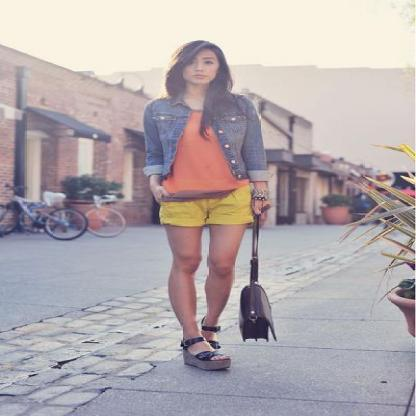bag: (239, 274, 276, 340)
jacket: (133, 94, 277, 185)
shirt: (169, 116, 236, 191)
shoe: (182, 351, 230, 375)
shorts: (159, 180, 253, 226)
